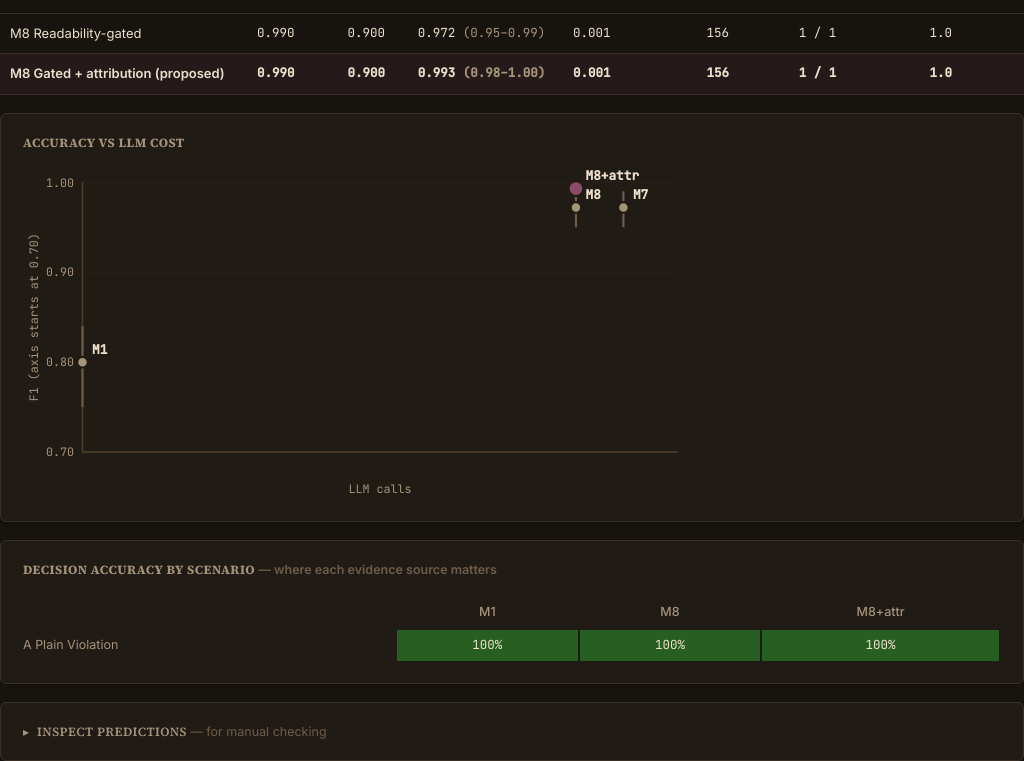
Test: Evaluation page — M8 variants, run info and inspector › says so, instead of showing an empty table, when no wrong predictions match
This screenshot has width=1024, height=761.
(page scrolled)
Click the button with test id "inspector-toggle".
click(114, 731)  # box left=23, top=723, right=1001, bottom=740
(page scrolled)
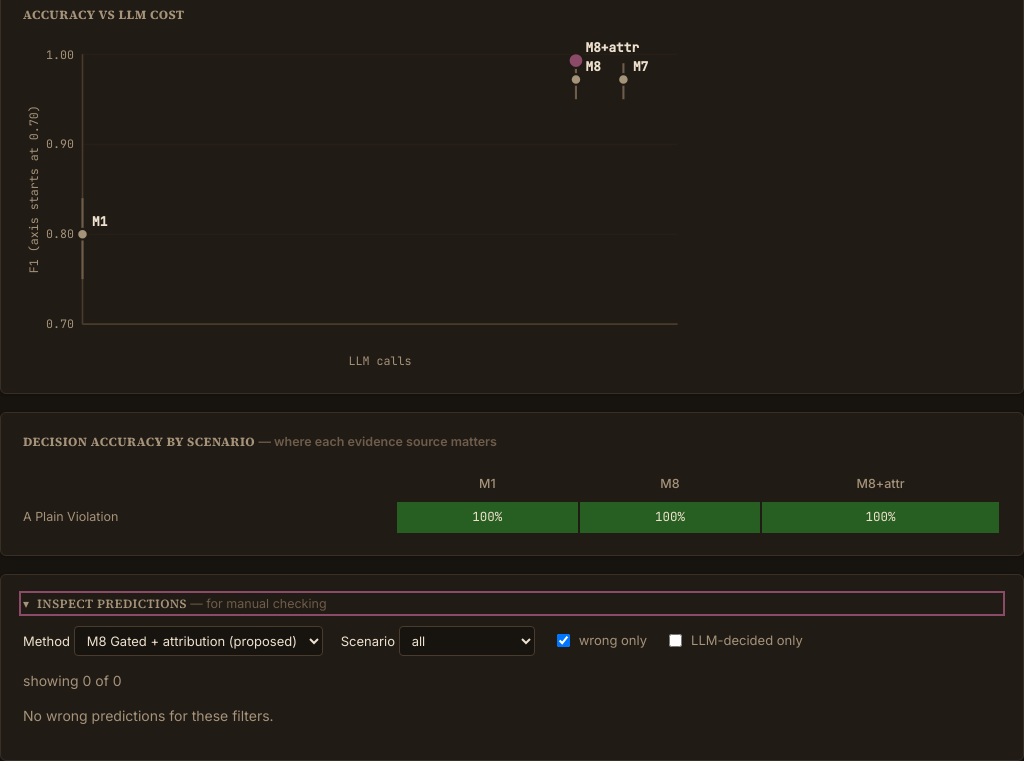
Result: the text with test id "no-pred-rows" shows "No wrong predictions" at left=23, top=707, right=274, bottom=724
